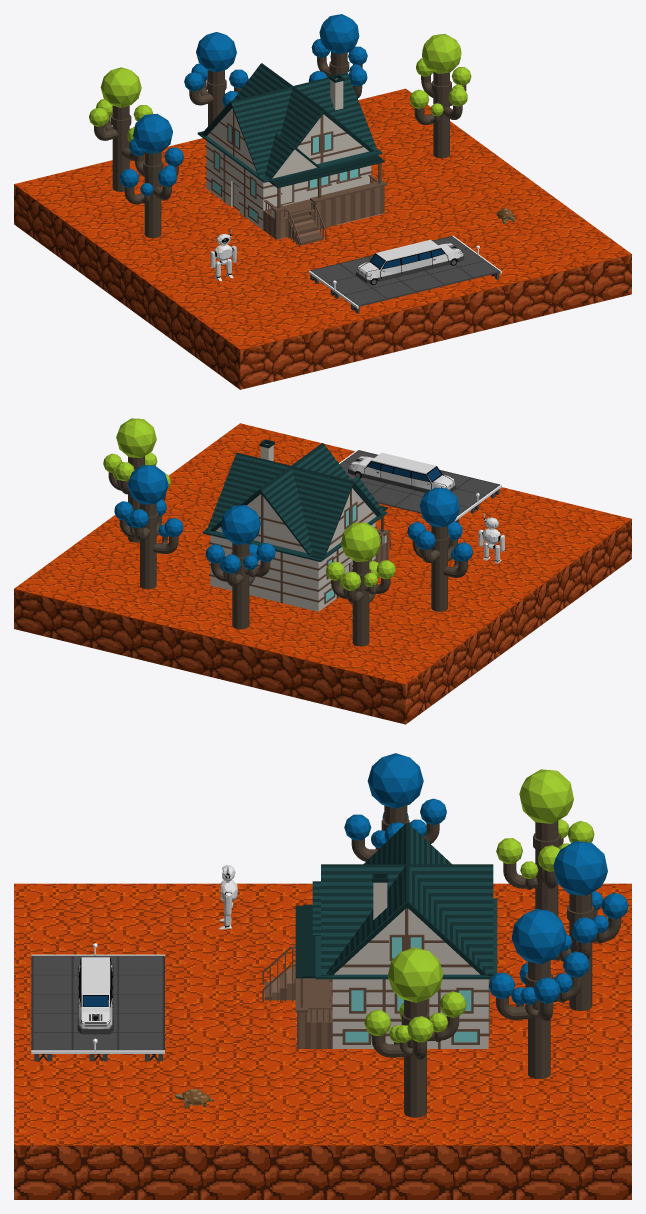
The picture shows the model from 3 angles, top to bottom: view 1: azimuth 30°, elevation 25°; view 2: azimuth 150°, elevation 25°; view 3: azimuth 270°, elevation 25°; orthographic projection. The views are drawn at different scales.
Visible parts, largest first — view 1: Cube.001, Cube.793, VEHICLES_LIMOUSINE, OBJRANDOM_PLATZEEBOT; view 2: Cube.001, Cube.793, VEHICLES_LIMOUSINE, OBJRANDOM_PLATZEEBOT; view 3: Cube.001, Cube.793, VEHICLES_LIMOUSINE, OBJRANDOM_PLATZEEBOT.
Boxes of the visible parts, left/top/right/bottom form: Cube.001: left=14, top=14, right=631, bottom=389; Cube.793: left=197, top=63, right=387, bottom=246; VEHICLES_LIMOUSINE: left=355, top=239, right=464, bottom=285; OBJRANDOM_PLATZEEBOT: left=210, top=229, right=236, bottom=281; Cube.001: left=14, top=418, right=631, bottom=724; Cube.793: left=202, top=439, right=390, bottom=611; VEHICLES_LIMOUSINE: left=348, top=452, right=456, bottom=492; OBJRANDOM_PLATZEEBOT: left=478, top=513, right=504, bottom=563; Cube.001: left=14, top=753, right=631, bottom=1199; Cube.793: left=262, top=823, right=497, bottom=1049; VEHICLES_LIMOUSINE: left=77, top=957, right=113, bottom=1034; OBJRANDOM_PLATZEEBOT: left=218, top=865, right=237, bottom=929.
Size of the model in its own units: 4000 by 1667 by 4000.
Materials: 30 (5 with a texture image).
